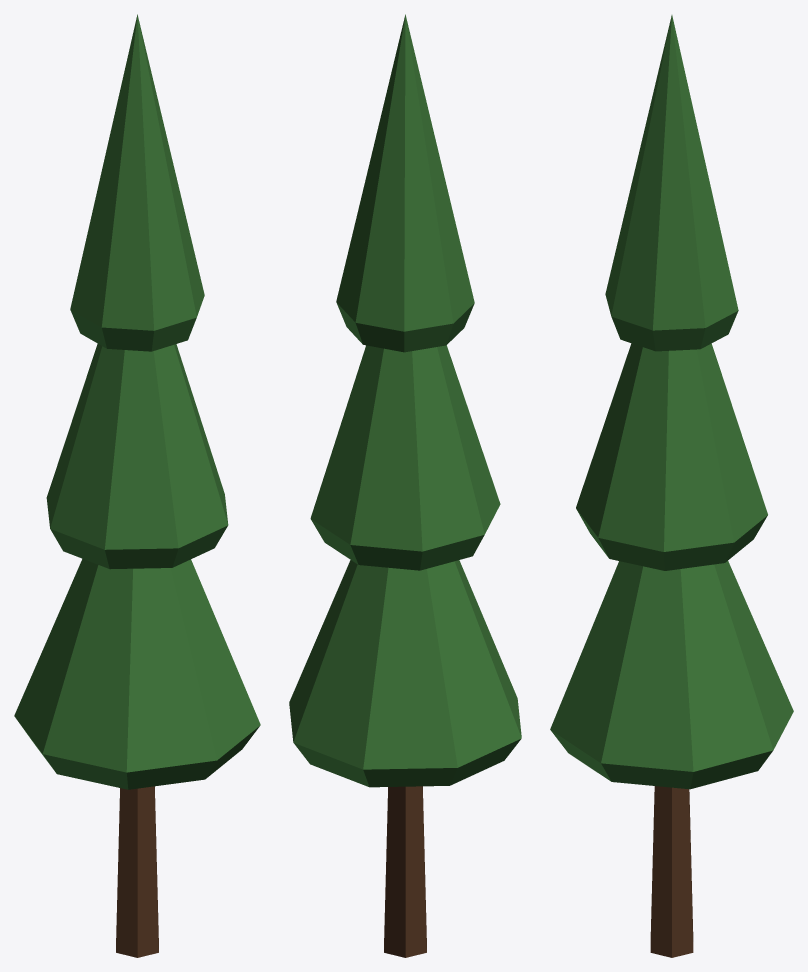
The model's file is tree_pineTallD.glb.
3 renders of one model, left to right at view 1: azimuth 30°, elevation 25°; view 2: azimuth 150°, elevation 25°; view 3: azimuth 270°, elevation 25°, orthographic.
Parts seen in each view (by area): view 1: tree_pineTallD; view 2: tree_pineTallD; view 3: tree_pineTallD.
Part boxes in pixels (<box>): tree_pineTallD: <box>14,14,260,957</box>; tree_pineTallD: <box>289,14,521,957</box>; tree_pineTallD: <box>550,15,793,957</box>.
Bounding box in the file's own units: 0.4924 × 2.08 × 0.4924.
Materials: 1 (1 with a texture image).
